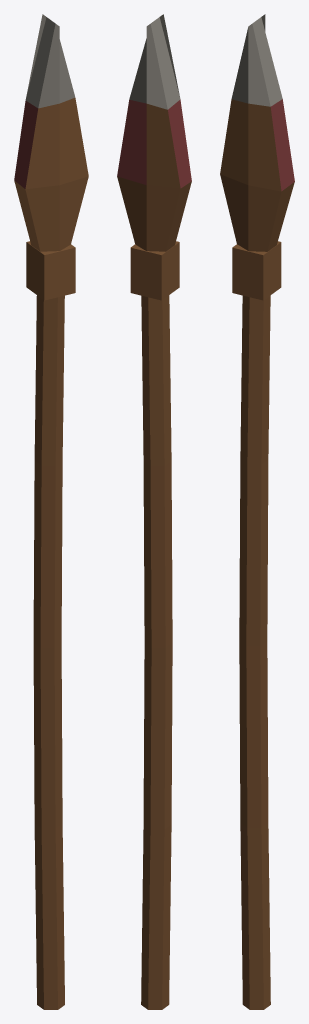
File: wpn_spear_01.fbx
3 views of the same model, side by side, from view 1: azimuth 30°, elevation 25°; view 2: azimuth 150°, elevation 25°; view 3: azimuth 330°, elevation 25° (orthographic).
Visible parts, largest first — view 1: wpn_spear_01; view 2: wpn_spear_01; view 3: wpn_spear_01.
Part boxes in pixels (x1=…): wpn_spear_01: x1=14, y1=14, x2=88, y2=1009; wpn_spear_01: x1=117, y1=14, x2=191, y2=1009; wpn_spear_01: x1=220, y1=14, x2=294, y2=1009.
Bounding box in the file's own units: 0.144 × 0.072 × 2.17.
1 material, 1 textured.
